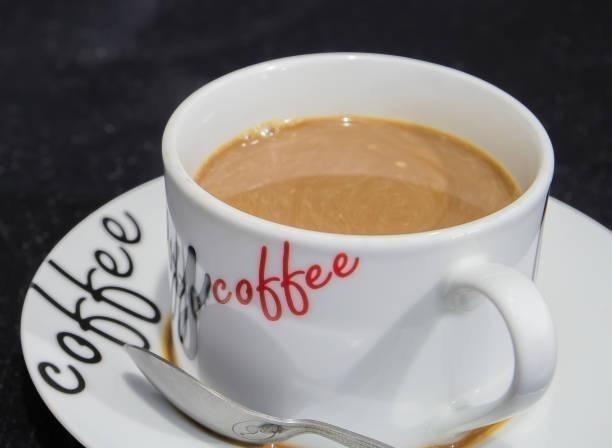cup-handle: (160, 50, 558, 445)
